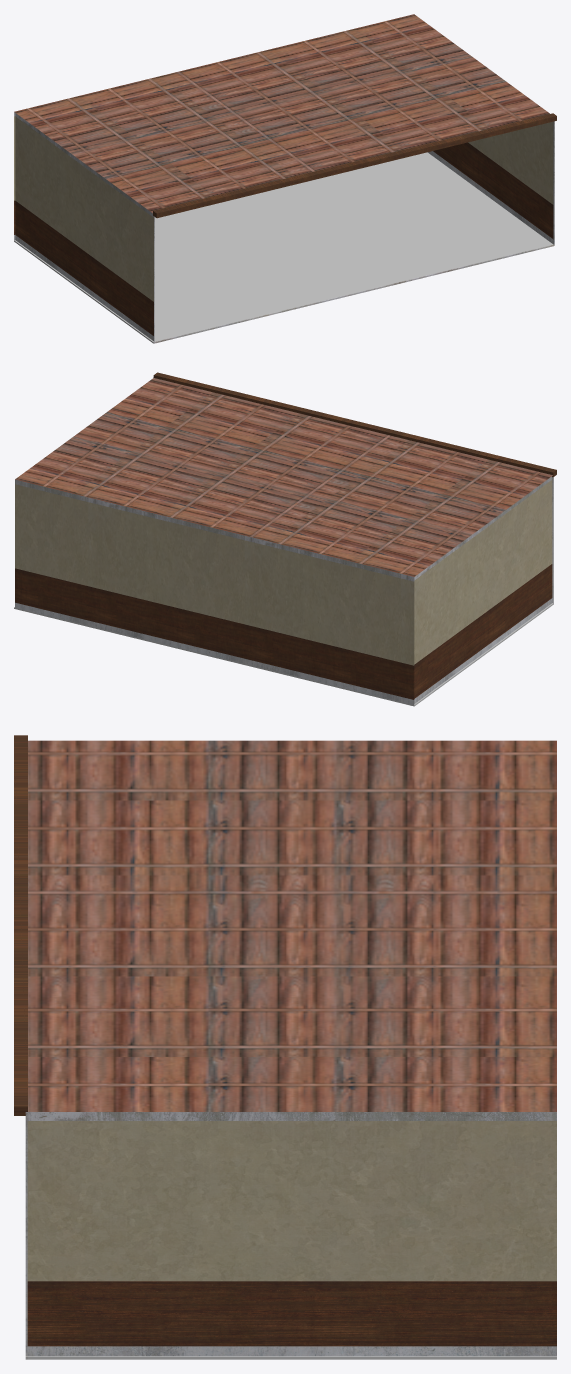
The model's file is ms_tri_b_2q_in02.fbx.
3 renders of one model, top to bottom at view 1: azimuth 30°, elevation 25°; view 2: azimuth 150°, elevation 25°; view 3: azimuth 270°, elevation 25°, orthographic. The views are drawn at different scales.
Parts seen in each view (by area): view 1: ms_tri_b_2q_in02; view 2: ms_tri_b_2q_in02; view 3: ms_tri_b_2q_in02.
Boxes of the visible parts, <box> form: ms_tri_b_2q_in02: <box>14,14,556,343</box>; ms_tri_b_2q_in02: <box>14,372,556,706</box>; ms_tri_b_2q_in02: <box>14,735,556,1359</box>.
Bounding box in the file's own units: 1090 × 344 × 672.
